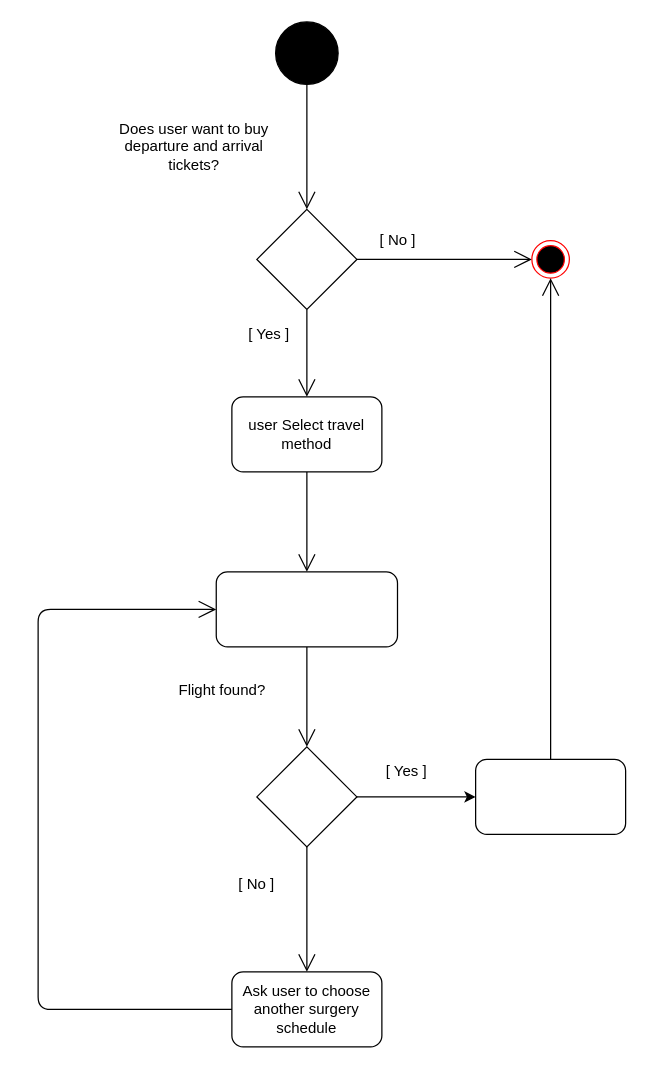
The diagram is 648 pixels wide and 1069 high, and some of its shapes have lost their labels. Here are the shapes that lost their labels. From the top down, the centre of each, then its label:
pixel 306 609: Find suitable flight with respect to surgery schedule that use has chosen.
pixel 550 796: buy the ticket
